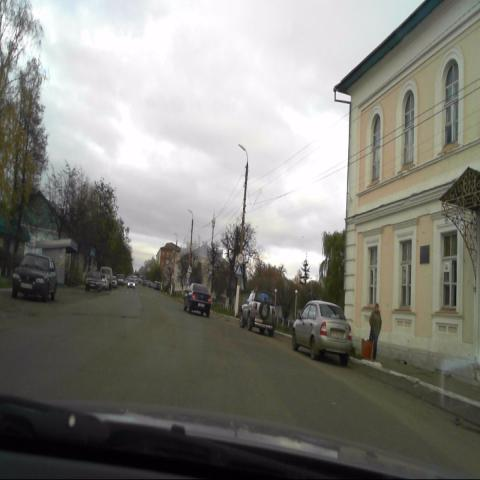3_24: (237, 253, 244, 264)
5_19_1: (235, 264, 243, 277)
